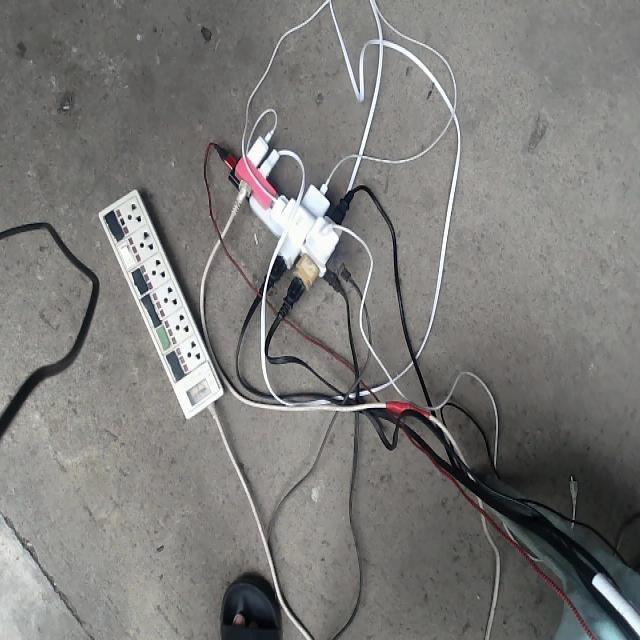-: (193, 73, 426, 372)
